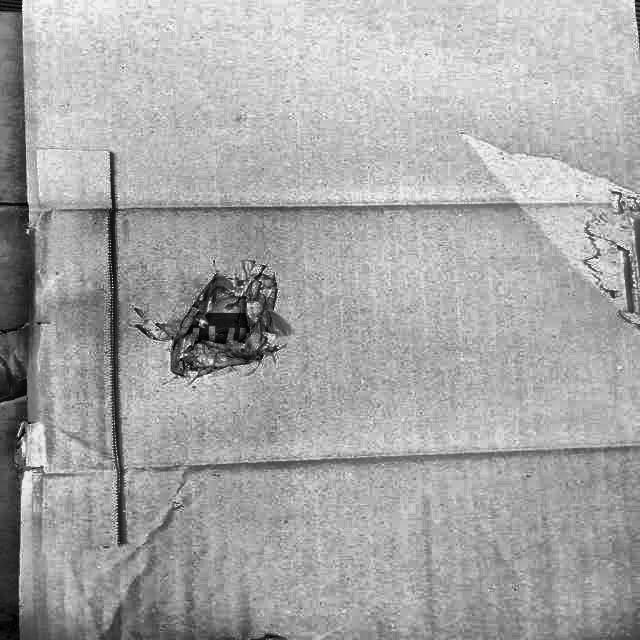box: (17, 0, 639, 639)
hole: (161, 270, 293, 381)
